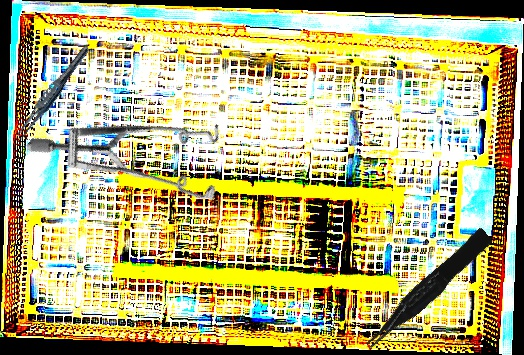Speculum: (23, 39, 252, 262)
Tissue Forceps: (356, 227, 498, 352), (10, 41, 93, 148)
